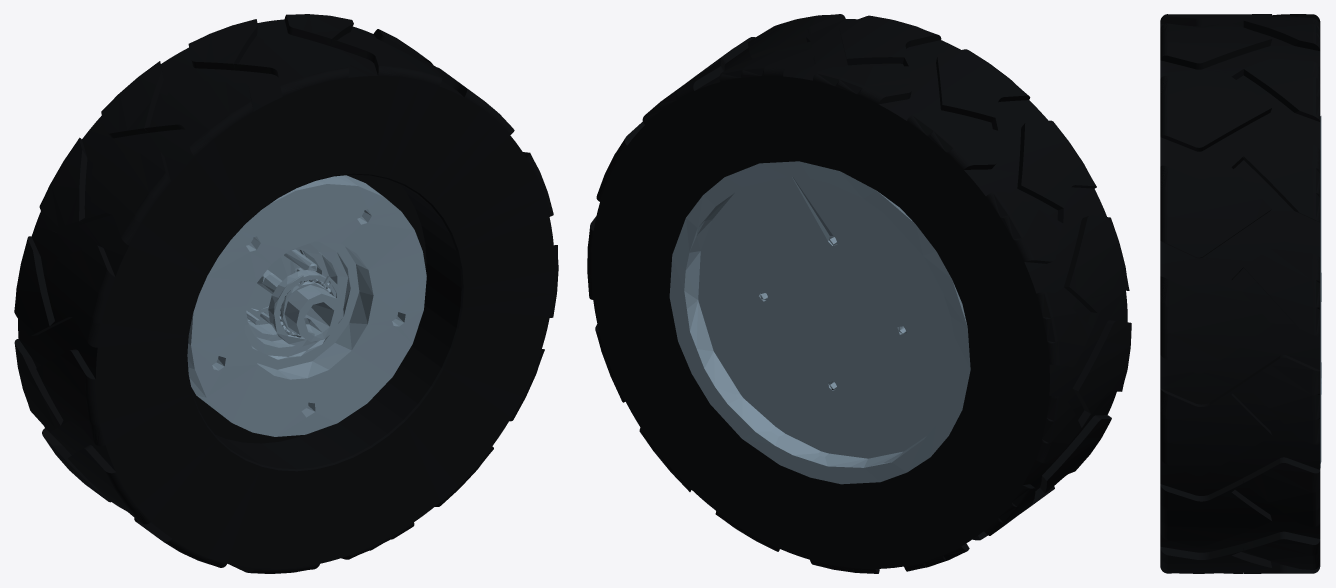
The model's file is wheel_RL.dae.
3 renders of one model, left to right at view 1: azimuth 30°, elevation 25°; view 2: azimuth 150°, elevation 25°; view 3: azimuth 270°, elevation 25°, orthographic. The views are drawn at different scales.
Parts seen in each view (by area): view 1: node; view 2: node; view 3: node.
Boxes of the visible parts, <box> form: node: <box>14,14,558,573</box>; node: <box>587,14,1131,573</box>; node: <box>1160,14,1321,573</box>.
Size of the model in its own units: 0.35 by 0.1009 by 0.35.
